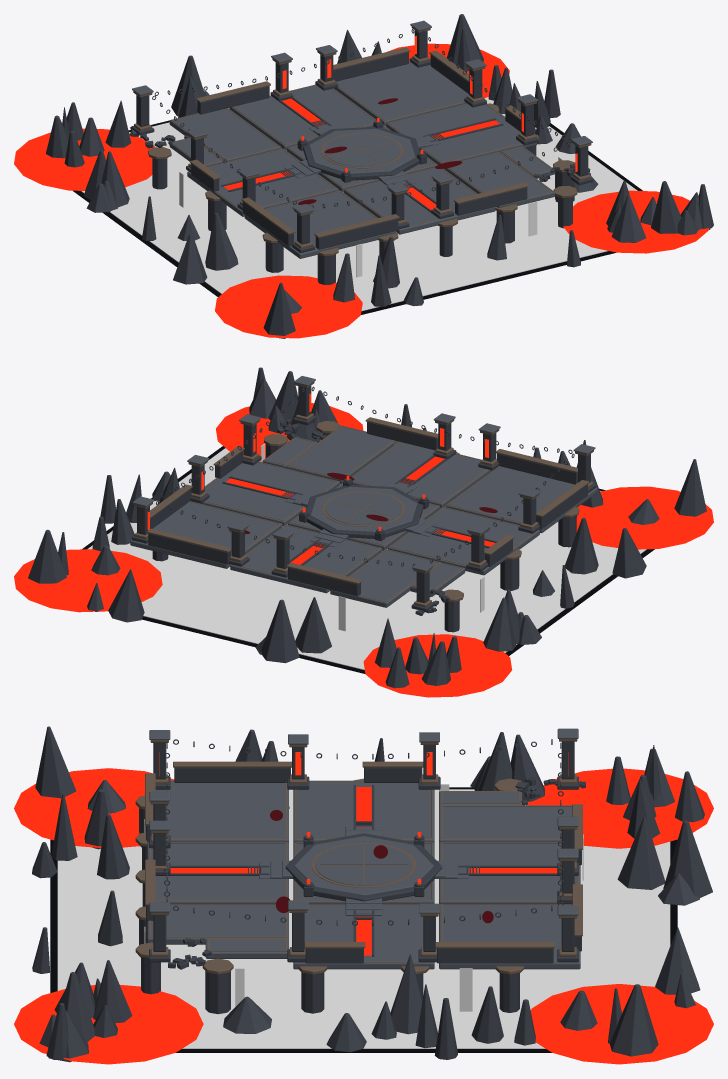
The model's file is BuildableHellArena_Model01.fbx.
The picture shows the model from 3 angles, top to bottom: view 1: azimuth 30°, elevation 25°; view 2: azimuth 150°, elevation 25°; view 3: azimuth 270°, elevation 25°; orthographic projection. The views are drawn at different scales.
Visible parts, largest first — view 1: DeepLavaSea, AbyssGlow_-35_-35, FloorSlab_20_20, AbyssGlow_-35_35, FloorSlab_20_0, FloorSlab_0_20, AbyssGlow_35_-35, FloorSlab_-20_0, FloorSlab_0_-20, FloorSlab_-20_-20, FloorSlab_BrokenNW_A, FloorSlab_BrokenSE_A (+33 smaller); view 2: DeepLavaSea, AbyssGlow_-35_-35, AbyssGlow_35_35, AbyssGlow_-35_35, FloorSlab_20_0, FloorSlab_0_-20, FloorSlab_-20_-20, FloorSlab_-20_0, FloorSlab_20_20, FloorSlab_0_20, FloorSlab_BrokenSE_A, FloorSlab_BrokenNW_A (+31 smaller); view 3: DeepLavaSea, AbyssGlow_35_35, AbyssGlow_35_-35, FloorSlab_-20_-20, FloorSlab_-20_0, FloorSlab_0_-20, FloorSlab_0_20, AbyssGlow_-35_35, AbyssGlow_-35_-35, FloorSlab_20_20, FloorSlab_20_0, FloorSlab_BrokenNW_A (+55 smaller).
Boxes of the visible parts, x1,y1,x2,y2 form: DeepLavaSea: [81, 97, 637, 310]; AbyssGlow_-35_-35: [215, 275, 362, 338]; FloorSlab_20_20: [334, 62, 469, 125]; AbyssGlow_-35_35: [14, 128, 154, 190]; FloorSlab_20_0: [386, 104, 537, 164]; FloorSlab_0_20: [229, 85, 376, 150]; AbyssGlow_35_-35: [563, 190, 708, 253]; FloorSlab_-20_0: [187, 148, 338, 216]; FloorSlab_0_-20: [344, 168, 495, 234]; FloorSlab_-20_-20: [244, 190, 395, 258]; FloorSlab_BrokenNW_A: [169, 108, 281, 162]; FloorSlab_BrokenSE_A: [444, 152, 554, 207]; DeepLavaSea: [87, 448, 646, 670]; AbyssGlow_-35_-35: [576, 486, 713, 549]; AbyssGlow_35_35: [14, 549, 162, 612]; AbyssGlow_-35_35: [363, 634, 511, 697]; FloorSlab_20_0: [190, 462, 339, 526]; FloorSlab_0_-20: [351, 441, 492, 508]; FloorSlab_-20_-20: [445, 466, 597, 533]; FloorSlab_-20_0: [388, 507, 539, 575]; FloorSlab_20_20: [130, 502, 282, 568]; FloorSlab_0_20: [230, 525, 382, 593]; FloorSlab_BrokenSE_A: [285, 425, 397, 484]; FloorSlab_BrokenNW_A: [330, 549, 441, 607]; DeepLavaSea: [57, 789, 670, 1048]; AbyssGlow_35_35: [530, 984, 713, 1064]; AbyssGlow_35_-35: [14, 985, 203, 1064]; FloorSlab_-20_-20: [147, 781, 288, 842]; FloorSlab_-20_0: [293, 781, 434, 842]; FloorSlab_0_-20: [147, 842, 288, 903]; FloorSlab_0_20: [439, 842, 580, 903]; AbyssGlow_-35_35: [526, 768, 713, 848]; AbyssGlow_-35_-35: [14, 768, 174, 847]; FloorSlab_20_20: [439, 904, 580, 969]; FloorSlab_20_0: [293, 905, 434, 969]; FloorSlab_BrokenNW_A: [439, 805, 572, 842].
Size of what is drawn, in the model's own units: 9600 by 1776 by 9600.
